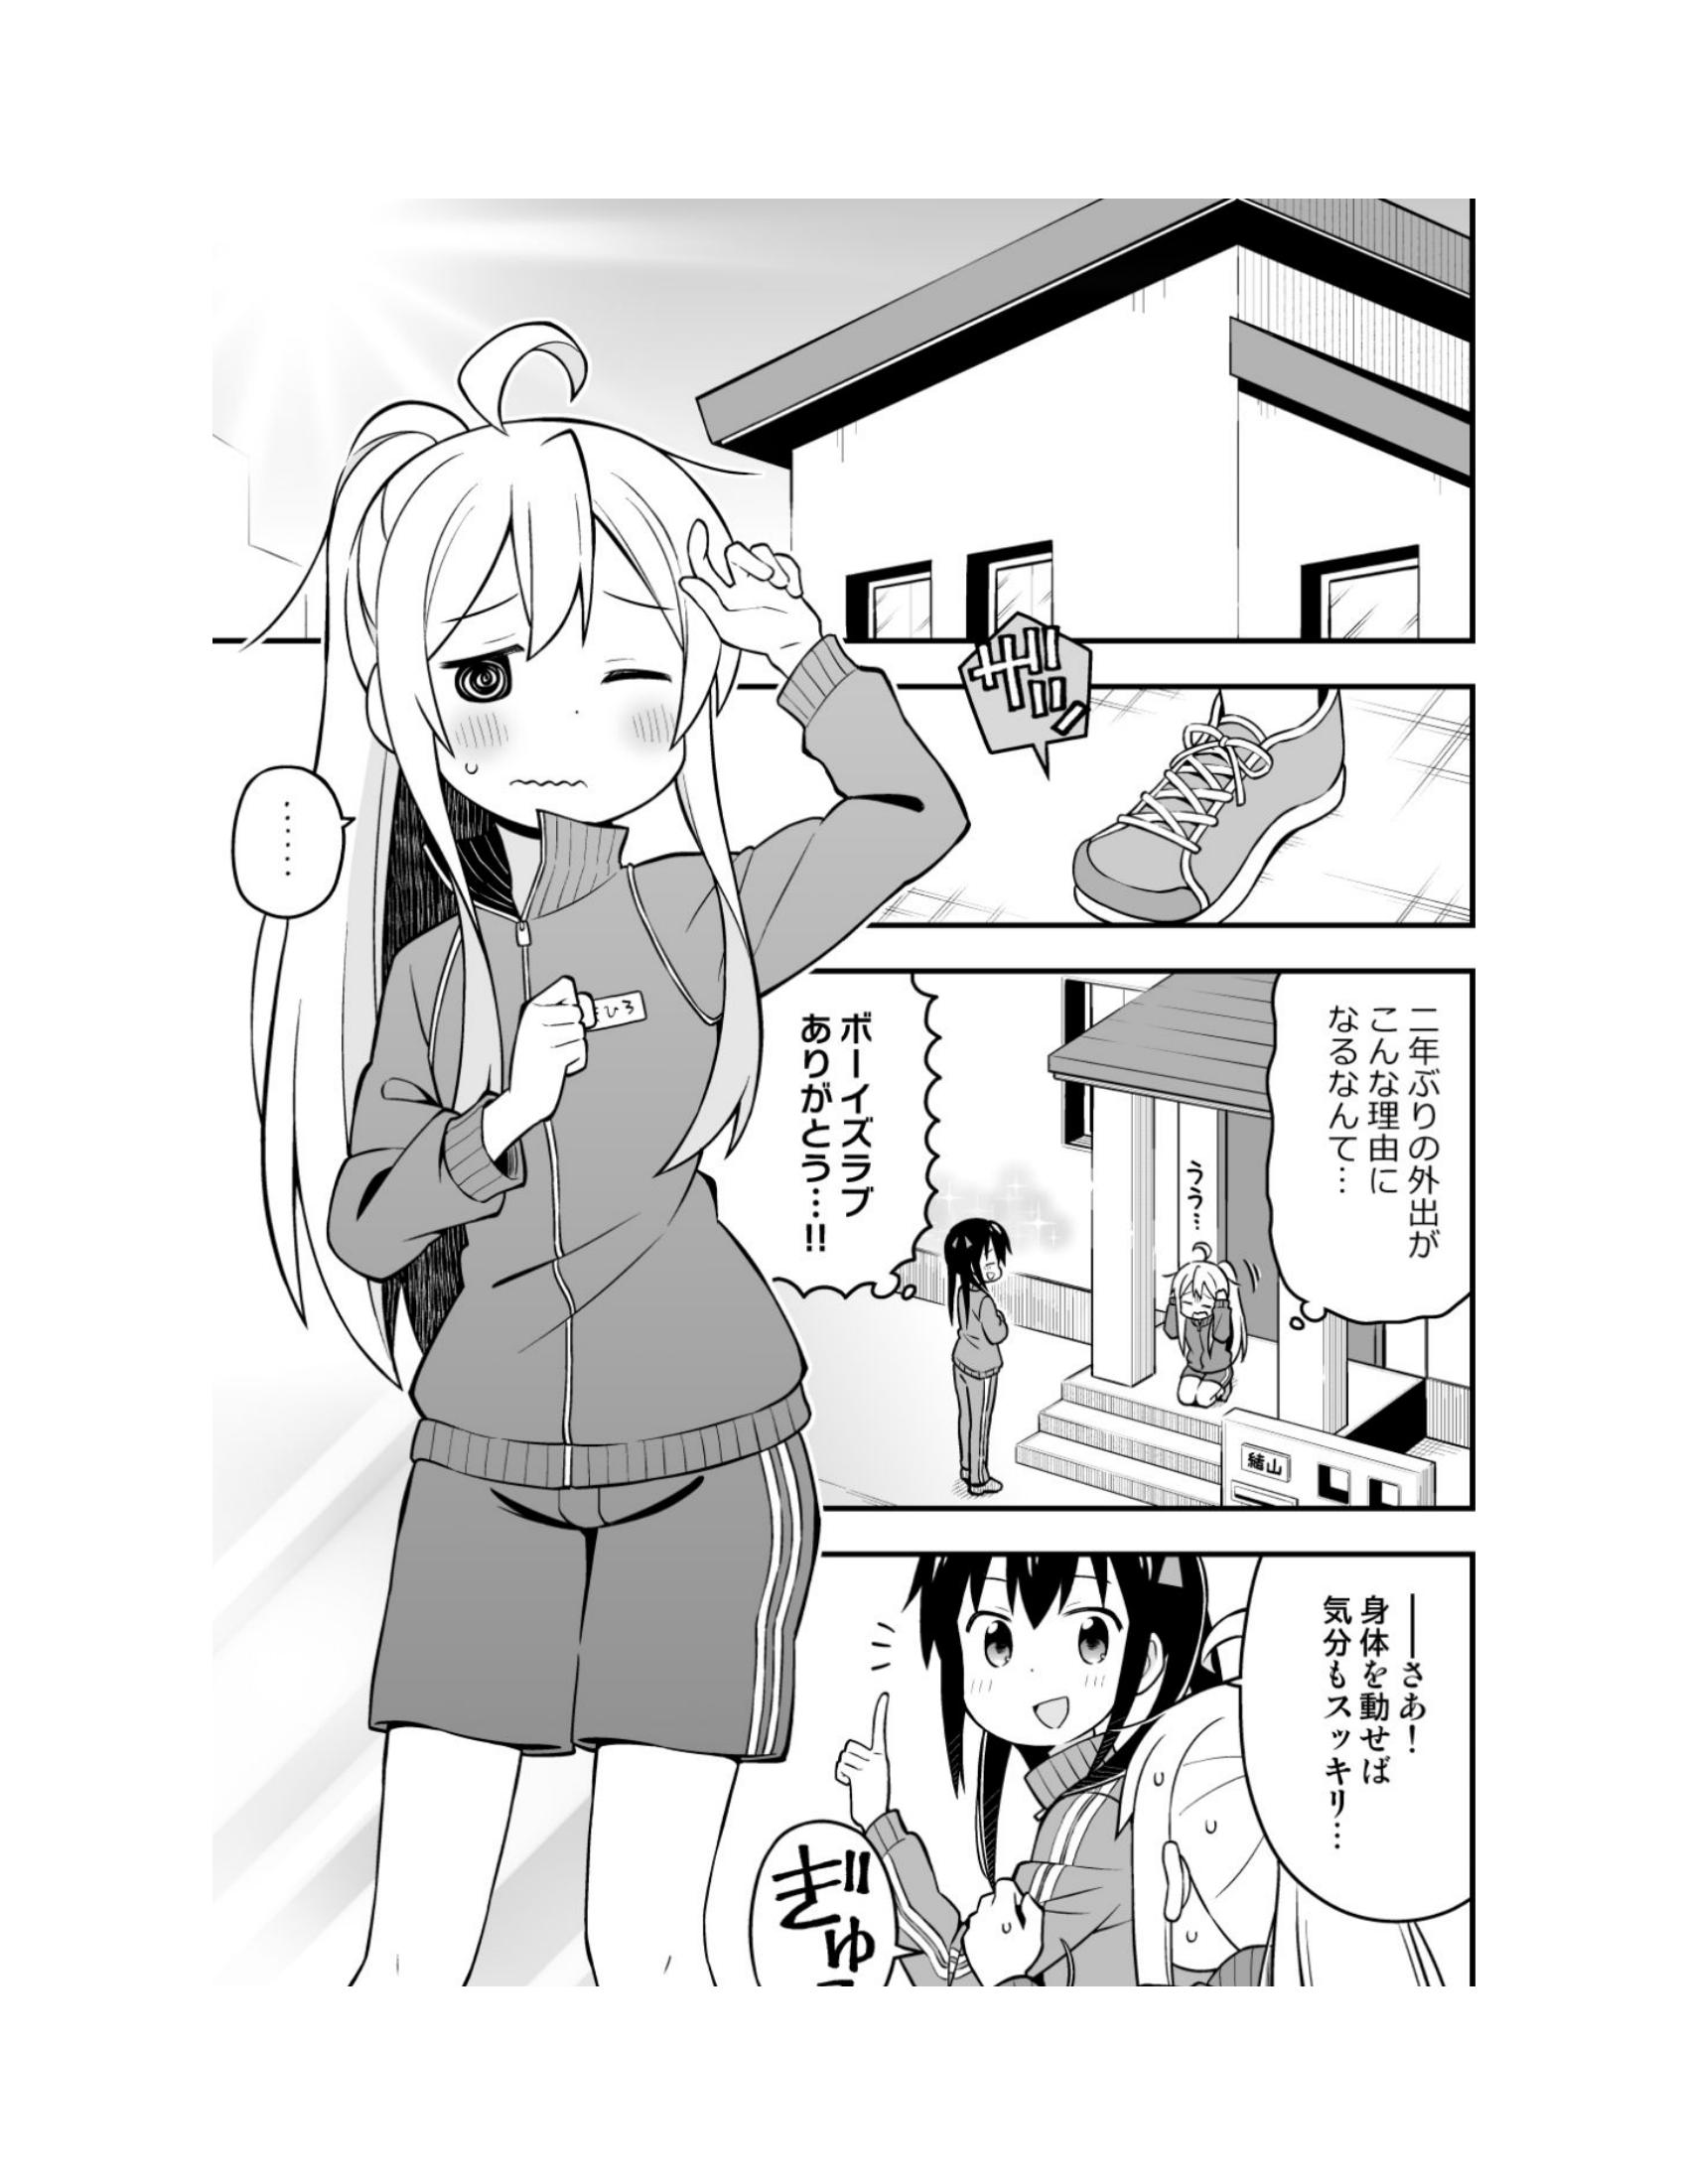a: (1220, 1569, 1486, 1948), (729, 959, 950, 1296), (1284, 979, 1473, 1345), (729, 1844, 904, 2012)
